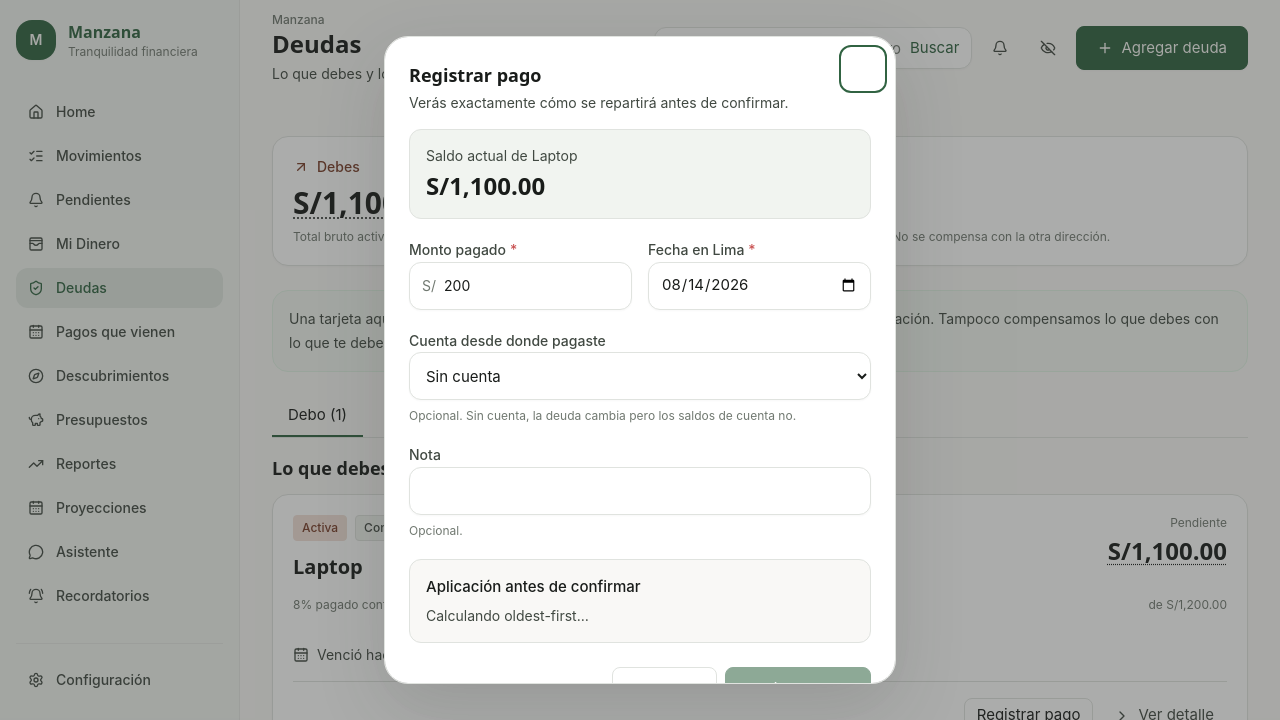
Scenario: DebtsScreen W-11 › rechaza el sobrepago y ofrece las dos salidas sin encadenar commits
Replace the text in the number field labelled "Monto pagado*" with "1200": x=532, y=286 [444, 262, 619, 308]
(page scrolled)
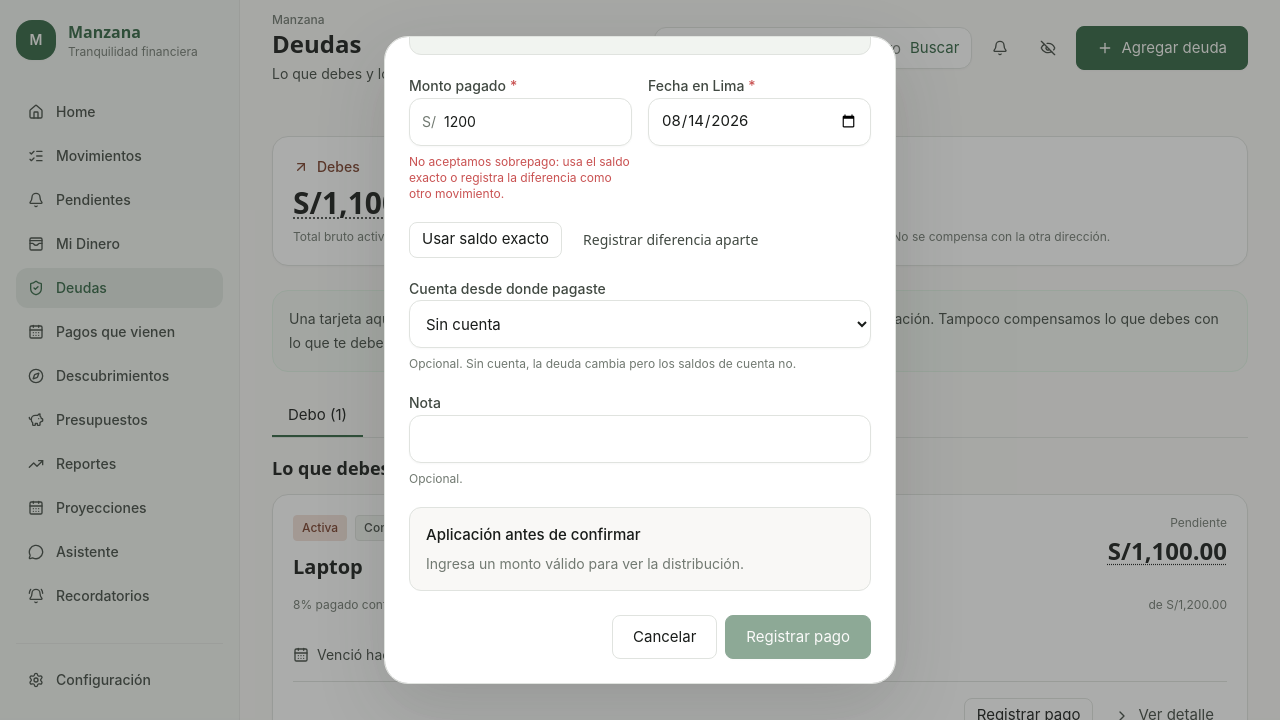
Check: the button "Registrar pago" is disabled, box [725, 615, 871, 659]
Check: the text "No aceptamos sobrepago" is shown, box [409, 154, 630, 200]
Check: the button "Usar saldo exacto" is shown, box [409, 222, 562, 258]
